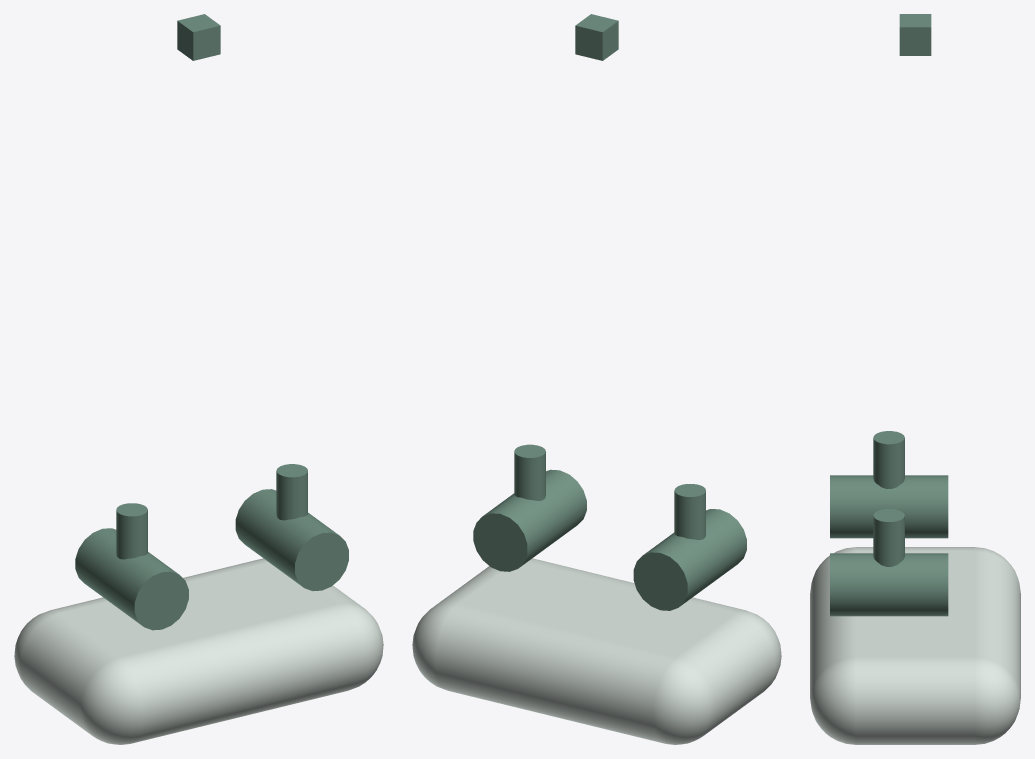
The picture shows the model from 3 angles, left to right: view 1: azimuth 30°, elevation 25°; view 2: azimuth 150°, elevation 25°; view 3: azimuth 270°, elevation 25°; orthographic projection.
Parts seen in each view (by area): view 1: headphone-body, earbud-left, earbud-right, headphone-trim, earbud-stem-left, earbud-stem-right; view 2: headphone-body, earbud-right, earbud-left, headphone-trim, earbud-stem-right, earbud-stem-left; view 3: headphone-body, earbud-right, earbud-left, earbud-stem-left, earbud-stem-right, headphone-trim.
Boxes of the visible parts, left/top/right/bottom form: headphone-body: left=14, top=558, right=383, bottom=744; earbud-left: left=75, top=528, right=188, bottom=630; earbud-right: left=235, top=489, right=348, bottom=590; headphone-trim: left=177, top=14, right=220, bottom=60; earbud-stem-left: left=116, top=503, right=147, bottom=559; earbud-stem-right: left=276, top=464, right=307, bottom=520; headphone-body: left=412, top=558, right=781, bottom=744; earbud-right: left=473, top=469, right=586, bottom=571; earbud-left: left=633, top=509, right=746, bottom=610; headphone-trim: left=575, top=14, right=618, bottom=60; earbud-stem-right: left=514, top=444, right=545, bottom=500; earbud-stem-left: left=674, top=484, right=705, bottom=540; headphone-body: left=810, top=547, right=1020, bottom=744; earbud-right: left=830, top=553, right=948, bottom=616; earbud-left: left=830, top=475, right=948, bottom=538; earbud-stem-left: left=873, top=431, right=904, bottom=488; earbud-stem-right: left=873, top=509, right=904, bottom=566; headphone-trim: left=899, top=14, right=931, bottom=55.
Size of the model in its own units: 0.13 by 0.2795 by 0.08.
